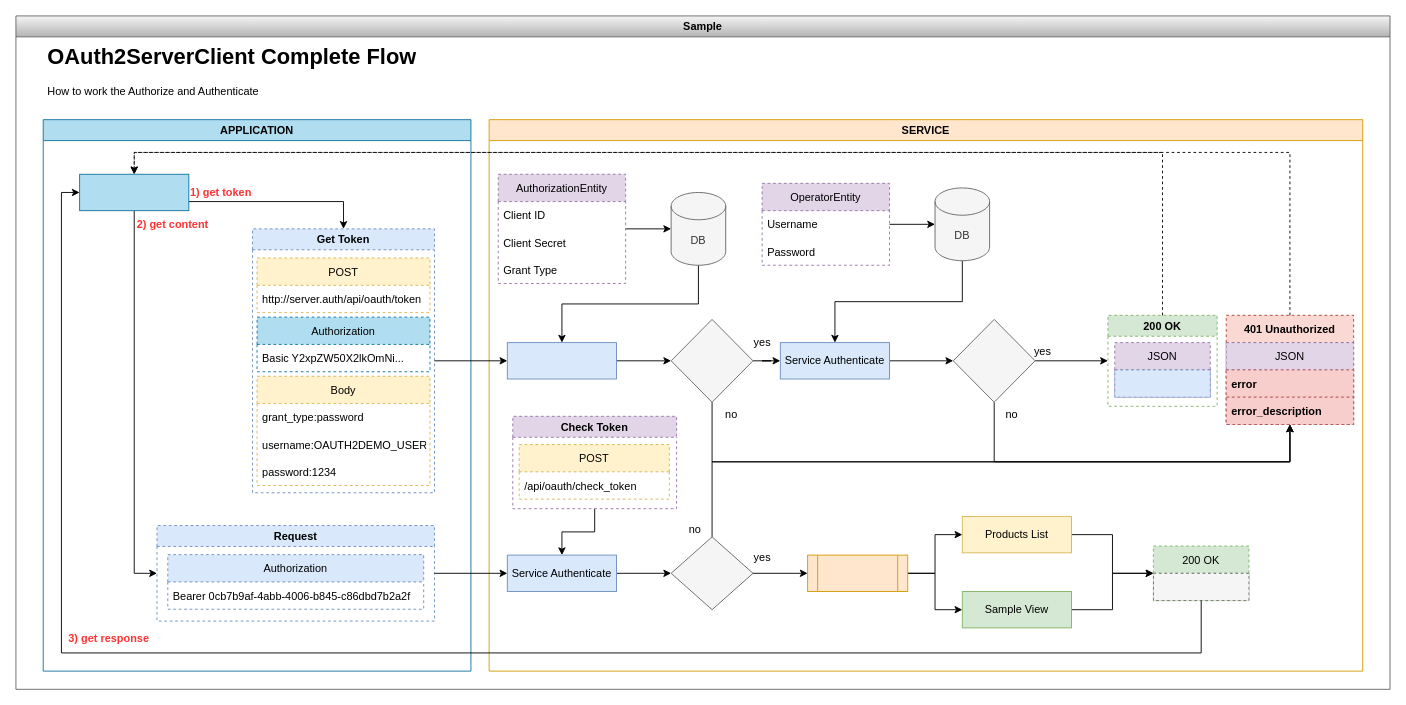
Some shapes in this 1406 by 705 pixel diagram are drawn without their labels. The shapes that lost their labels are listed below. From the top down, each one's centre as x and y in pixels, then its label:
At [134,192]: "REQUESTER".
At [561,360]: "Server Authorization".
At [711,360]: "Is Authorized ?".
At [993,360]: "Is Authenticate ?".
At [1162,383]: "access_token".
At [711,573]: "Token is Valid ?".
At [857,573]: "Application Router".
At [1201,586]: "response".
